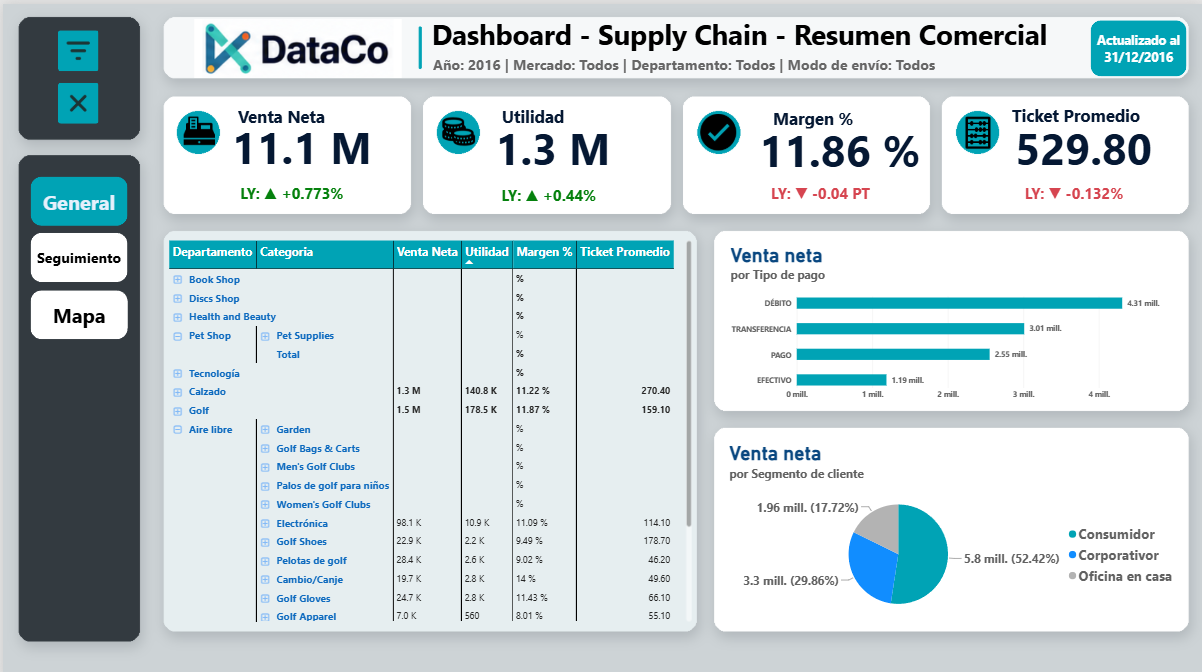

The page's visual inventory and layout, read from the dashboard file:
{"tool":"powerbi","page":{"name":"General","canvas":[1920,1080],"ordinal":1},"visuals":[{"type":"cardVisual","fields":{"Data":["Medidas_Ticket_Promedio.Ticket Promedio"]},"box":[1604.4,167.2,278,121],"z":0,"group":"g4"},{"type":"cardVisual","fields":{"Data":["Medidas_Utilidad.Suma_Utilidad_Dinamico"]},"box":[771.8,167.4,300,121.1],"z":0,"group":"g2"},{"type":"cardVisual","fields":{"Data":["Medidas_Margen_%.Margen %"]},"box":[1204,169.7,278,121],"z":0,"group":"g3"},{"type":"cardVisual","fields":{"Data":["Medidas.Suma_VentNeta_Dinamico"]},"box":[351.1,182.2,305.6,91.1],"z":0,"group":"g1"},{"type":"shape","box":[43.5,275.5,155.5,79.1],"z":0,"group":"g6"},{"type":"pivotTable","fields":{"Rows":["Dim_Categoria.Departamento","Dim_Categoria.Categoria","Dim_Producto.Producto"],"Values":["Medidas_Venta_Neta.Suma_VentNeta_Dinamico","Medidas_Utilidad.Suma_Utilidad_Dinamico","Medidas_Margen_%.Margen %","Medidas_Ticket_Promedio.Ticket Promedio"]},"box":[250,364,868,640],"z":0},{"type":"slicer","fields":{"Values":["Dim_Calendario.Año"]},"box":[25.3,585.8,193.3,83.3],"z":0,"group":"g5"},{"type":"textbox","title":"Ticket Promedio","box":[1613.4,160,278.6,48.6],"z":1000,"group":"g4"},{"type":"textbox","title":"Venta Neta","box":[376.3,161.2,268.4,48.6],"z":1000,"group":"g1"},{"type":"textbox","title":"Utilidad","box":[799.1,161.3,273.3,48.3],"z":1000,"group":"g2"},{"type":"textbox","title":"Margen %","box":[1232.8,163.6,226.7,48.3],"z":1000,"group":"g3"},{"type":"clusteredBarChart","fields":{"Category":["Fact_Ventas_Envios.Tipo de pago"],"Y":["Sum(Fact_Ventas_Envios.Venta neta)"]},"box":[1148.3,363.3,736.7,290],"z":1000},{"type":"slicer","fields":{"Values":["Dim_Categoria.Departamento"]},"box":[25.3,770.8,191.7,93.3],"z":1000,"group":"g5"},{"type":"actionButton","box":[272.5,272.4,380,57.5],"z":2000,"group":"g1"},{"type":"actionButton","box":[1526.3,275.8,375,52.5],"z":2000,"group":"g4"},{"type":"actionButton","box":[712.4,277.1,322.5,57.5],"z":2000,"group":"g2"},{"type":"actionButton","box":[1155.3,279.4,315,52.5],"z":2000,"group":"g3"},{"type":"shape","box":[43.5,366.4,155.5,79.1],"z":2000,"group":"g6"},{"type":"pieChart","fields":{"Category":["Dim_Cliente.Segmento de cliente"],"Y":["Sum(Fact_Ventas_Envios.Venta neta)"]},"box":[1146,682,750,316],"z":2000},{"type":"slicer","fields":{"Values":["Dim_Envio.Modo de envío"]},"box":[25.3,860.8,191.7,93.3],"z":2000,"group":"g5"},{"type":"actionButton","box":[673.8,10,1070,77.5],"z":3000},{"type":"image","box":[698.5,173,60,60],"z":3000,"group":"g2"},{"type":"image","box":[283.8,173.8,60,60],"z":3000,"group":"g1"},{"type":"image","box":[1530.5,175,60,60],"z":3000,"group":"g4"},{"type":"image","box":[1115.5,175.6,60,60],"z":3000,"group":"g3"},{"type":"shape","box":[43.5,458.4,155.7,78.6],"z":3000,"group":"g6"},{"type":"slicer","fields":{"Values":["Dim_Ubicación.Mercado"]},"box":[25.3,679.1,191.7,83.3],"z":3000,"group":"g5"},{"type":"actionButton","title":"Btn_close","box":[88.3,125.7,65,65.7],"z":4000},{"type":"actionButton","title":"Btn_filter","box":[88.3,42.8,65,65.7],"z":5000},{"type":"group","id":"g1","title":"Grupo 2","box":[272.5,161.2,384.2,168.8],"z":6000},{"type":"group","id":"g2","title":"Grupo 3","box":[698.5,161.3,373.9,173.3],"z":7000},{"type":"group","id":"g3","title":"Grupo 4","box":[1115.5,163.6,366.5,168.3],"z":8000},{"type":"group","id":"g4","title":"Grupo 5","box":[1526.3,160,375,168.3],"z":9000},{"type":"group","id":"g5","title":"Filtros","box":[25.3,585.8,193.3,368.3],"z":10000},{"type":"image","box":[306,23,332,94],"z":11000},{"type":"shape","box":[1740,25.6,153.8,90],"z":12000},{"type":"group","id":"g6","title":"Grupo 1","box":[43.5,275.5,155.7,261.4],"z":13000},{"type":"actionButton","box":[676.2,71.2,1210,50],"z":14000}]}

Visuals, with their boxes in screenshot pixels (x1, y1, x2, y2), scaled from the page's 1920x1080 canvas onto the 1202x672 screenshot:
cardVisual - Medidas_Ticket_Promedio.Ticket Promedio: (x1=1004, y1=104, x2=1178, y2=179)
cardVisual - Medidas_Utilidad.Suma_Utilidad_Dinamico: (x1=483, y1=104, x2=671, y2=180)
cardVisual - Medidas_Margen_%.Margen %: (x1=754, y1=106, x2=928, y2=181)
cardVisual - Medidas.Suma_VentNeta_Dinamico: (x1=220, y1=113, x2=411, y2=170)
shape: (x1=27, y1=171, x2=125, y2=221)
pivotTable - Dim_Categoria.Departamento x Dim_Categoria.Categoria: (x1=157, y1=226, x2=700, y2=625)
slicer - Dim_Calendario.Año: (x1=16, y1=364, x2=137, y2=416)
"Ticket Promedio" textbox: (x1=1010, y1=100, x2=1184, y2=130)
"Venta Neta" textbox: (x1=236, y1=100, x2=404, y2=131)
"Utilidad" textbox: (x1=500, y1=100, x2=671, y2=130)
"Margen %" textbox: (x1=772, y1=102, x2=914, y2=132)
clusteredBarChart - Fact_Ventas_Envios.Tipo de pago x Sum(Fact_Ventas_Envios.Venta neta): (x1=719, y1=226, x2=1180, y2=406)
slicer - Dim_Categoria.Departamento: (x1=16, y1=480, x2=136, y2=538)
actionButton: (x1=171, y1=169, x2=408, y2=205)
actionButton: (x1=956, y1=172, x2=1190, y2=204)
actionButton: (x1=446, y1=172, x2=648, y2=208)
actionButton: (x1=723, y1=174, x2=920, y2=207)
shape: (x1=27, y1=228, x2=125, y2=277)
pieChart - Dim_Cliente.Segmento de cliente x Sum(Fact_Ventas_Envios.Venta neta): (x1=717, y1=424, x2=1187, y2=621)
slicer - Dim_Envio.Modo de envío: (x1=16, y1=536, x2=136, y2=594)
actionButton: (x1=422, y1=6, x2=1092, y2=54)
image: (x1=437, y1=108, x2=475, y2=145)
image: (x1=178, y1=108, x2=215, y2=145)
image: (x1=958, y1=109, x2=996, y2=146)
image: (x1=698, y1=109, x2=736, y2=147)
shape: (x1=27, y1=285, x2=125, y2=334)
slicer - Dim_Ubicación.Mercado: (x1=16, y1=423, x2=136, y2=474)
"Btn_close" actionButton: (x1=55, y1=78, x2=96, y2=119)
"Btn_filter" actionButton: (x1=55, y1=27, x2=96, y2=68)
"Grupo 2" group: (x1=171, y1=100, x2=411, y2=205)
"Grupo 3" group: (x1=437, y1=100, x2=671, y2=208)
"Grupo 4" group: (x1=698, y1=102, x2=928, y2=207)
"Grupo 5" group: (x1=956, y1=100, x2=1190, y2=204)
"Filtros" group: (x1=16, y1=364, x2=137, y2=594)
image: (x1=192, y1=14, x2=399, y2=73)
shape: (x1=1089, y1=16, x2=1186, y2=72)
"Grupo 1" group: (x1=27, y1=171, x2=125, y2=334)
actionButton: (x1=423, y1=44, x2=1181, y2=75)
